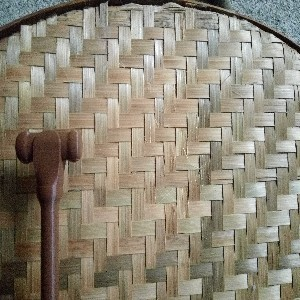palu: (14, 127, 82, 300)
